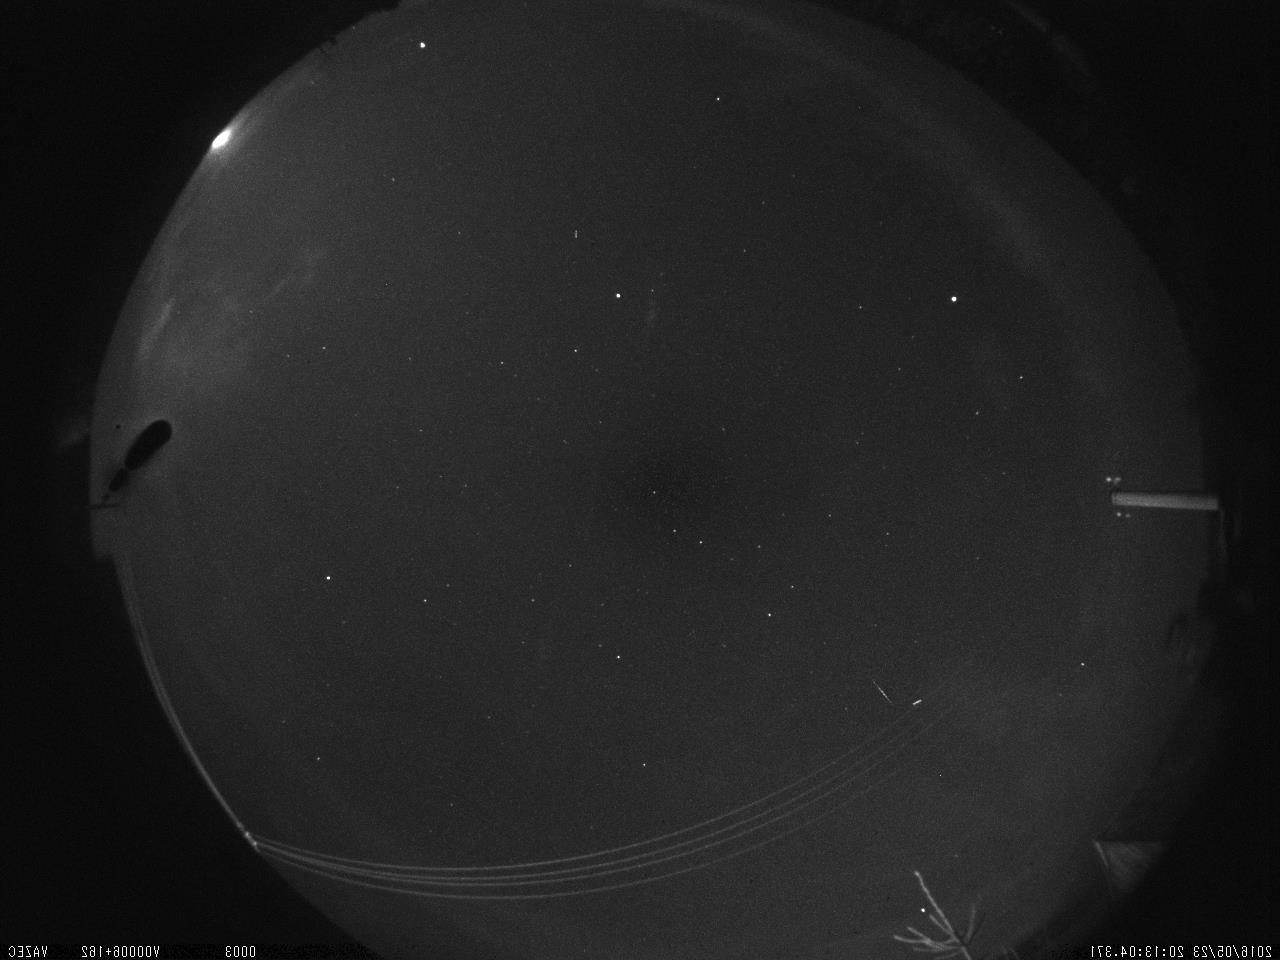meteor: (870, 675, 897, 710)
